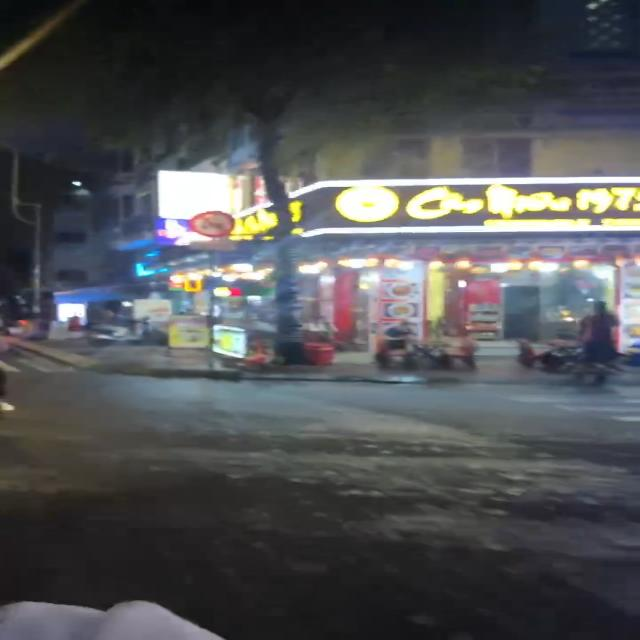Bien bao cam xe oto: (183, 207, 239, 237)
